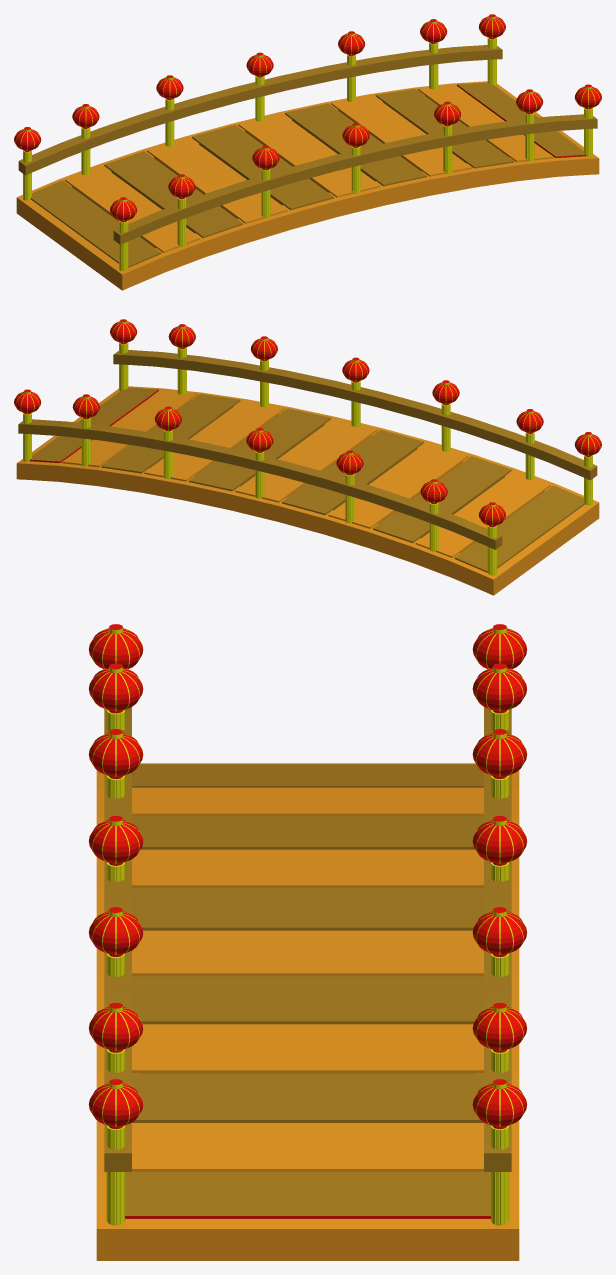
File: bridge.fbx
3 views of the same model, one above another, from view 1: azimuth 30°, elevation 25°; view 2: azimuth 150°, elevation 25°; view 3: azimuth 270°, elevation 25° (orthographic). The views are drawn at different scales.
Parts seen in each view (by area): view 1: Plane; view 2: Plane; view 3: Plane.
Boxes of the visible parts, left/top/right/bottom form: Plane: left=14, top=14, right=601, bottom=290; Plane: left=14, top=319, right=601, bottom=595; Plane: left=88, top=624, right=527, bottom=1260.
Size of the model in its own units: 4118 by 843 by 1600.
